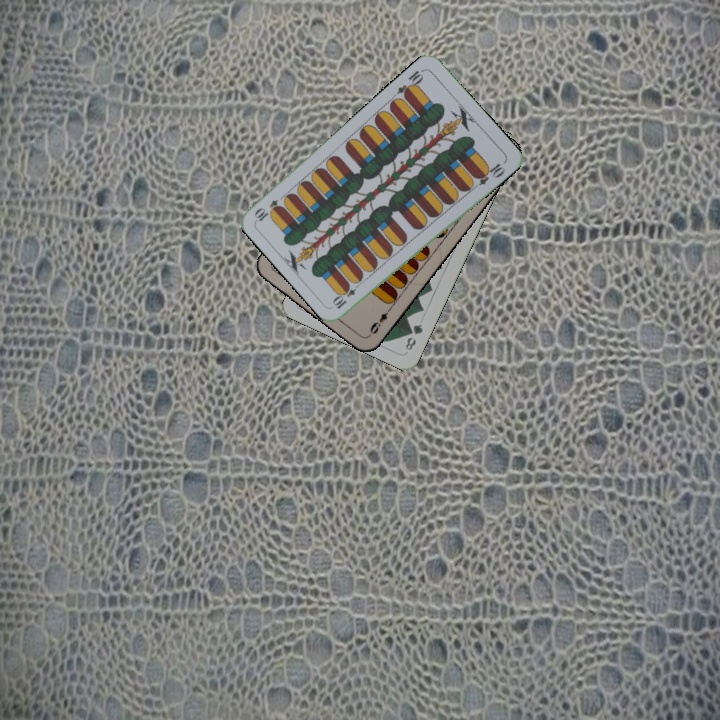E10: (393, 65, 427, 100), (329, 278, 364, 311)
E9: (365, 303, 394, 338)
G8: (401, 320, 426, 353)
